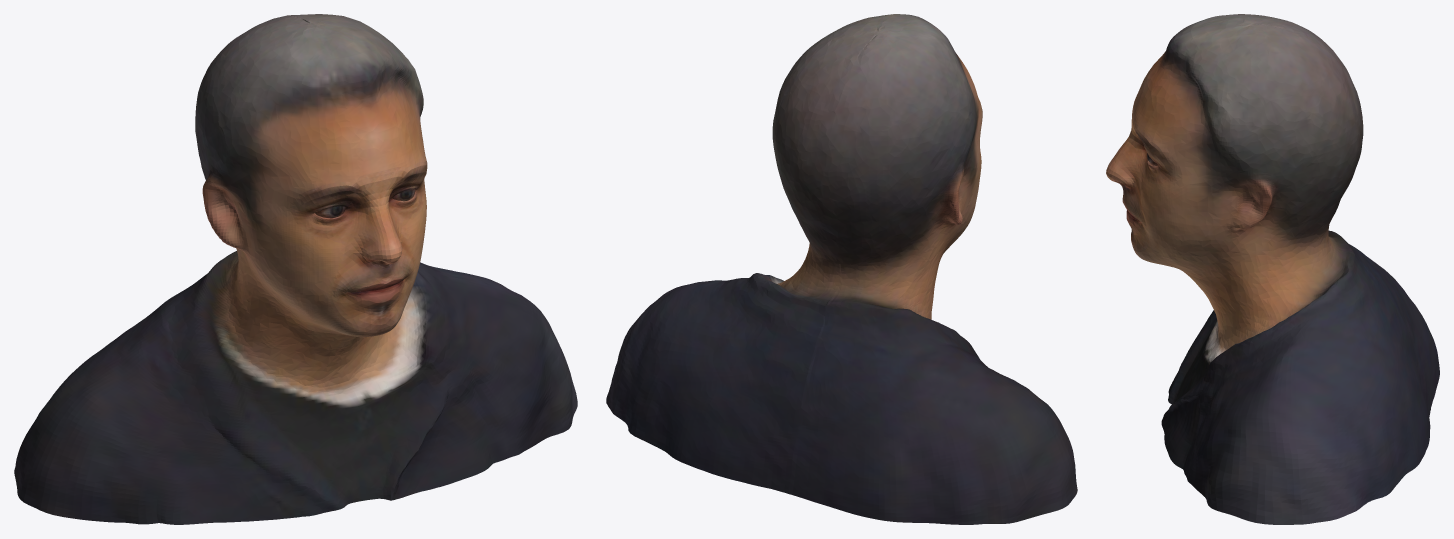
File: raul.glb
3 renders of one model, left to right at view 1: azimuth 30°, elevation 25°; view 2: azimuth 150°, elevation 25°; view 3: azimuth 270°, elevation 25°, orthographic. The views are drawn at different scales.
Visible parts, largest first — view 1: Node1; view 2: Node1; view 3: Node1.
Part boxes in pixels (x1,y1,x2,y2): Node1: (14, 14, 577, 524); Node1: (606, 14, 1077, 524); Node1: (1106, 14, 1439, 524).
Size of the model in its own units: 0.4639 by 0.3778 by 0.296.
1 material, 1 textured.
